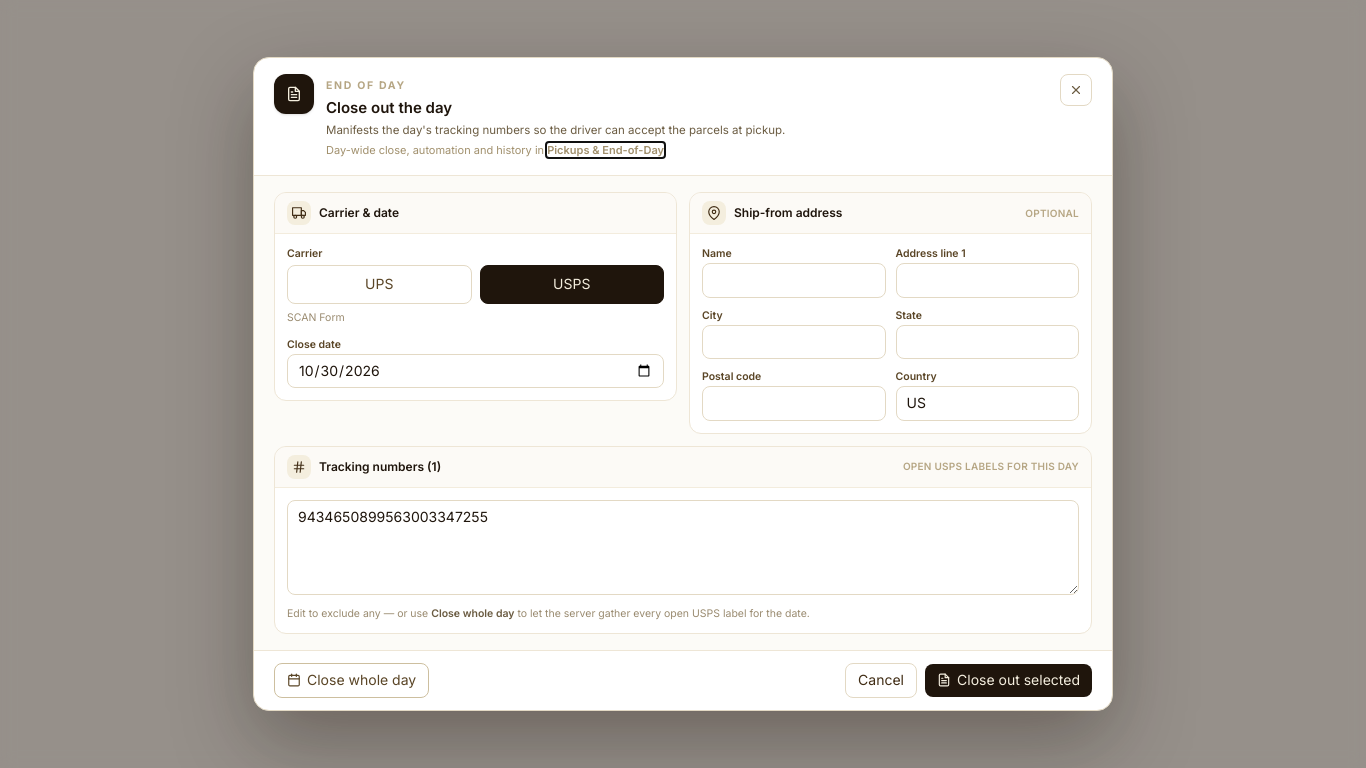
Test: CloseOutModal › disables Close whole day + Close out selected when the date is blank (BUG-017)
This screenshot has width=1366, height=768.
Clear the date field labelled "Close date" at (476, 371), box left=287, top=354, right=664, bottom=388
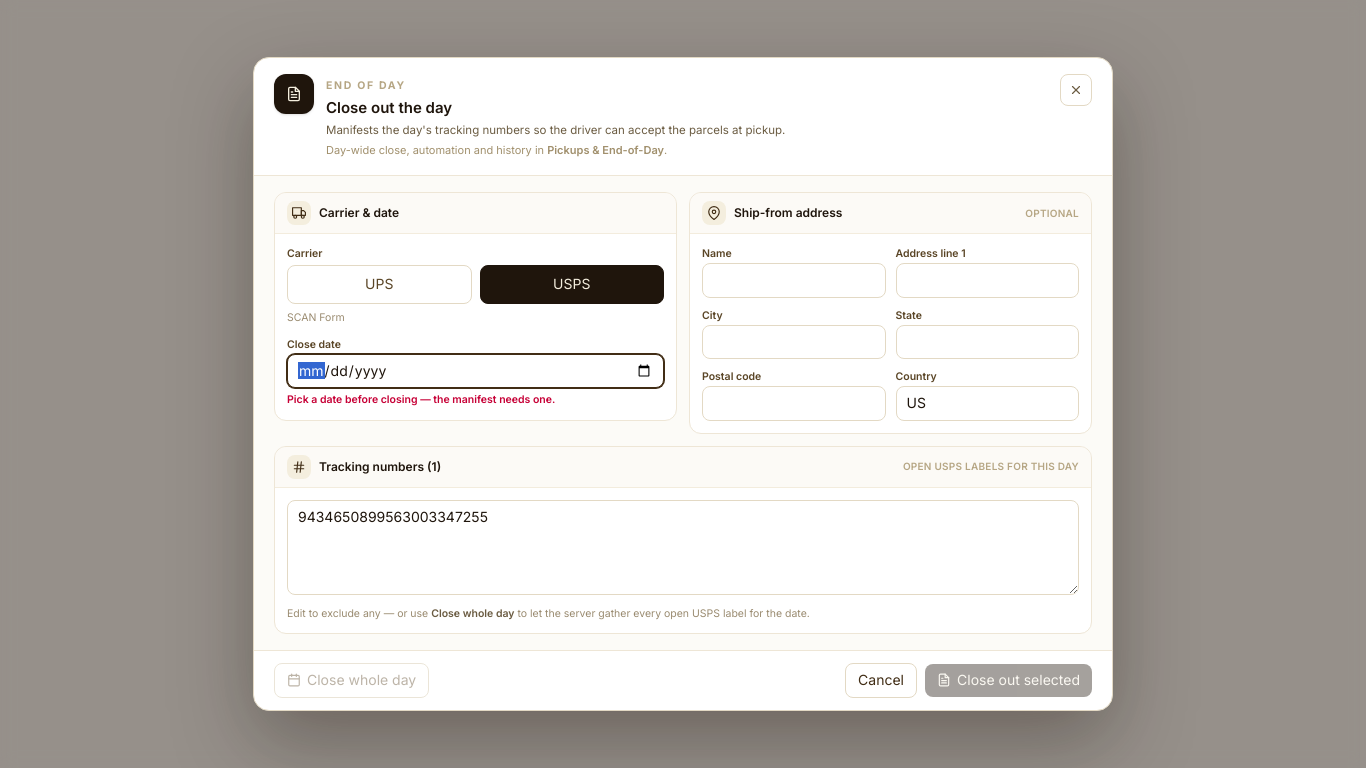
expect the text "Pick a date before closing — the manifest needs one." is shown: met, box left=287, top=393, right=555, bottom=406
expect the button "Close whole day" is disabled: met, box left=274, top=663, right=429, bottom=698
expect the button "Close out selected" is disabled: met, box left=925, top=664, right=1092, bottom=697
